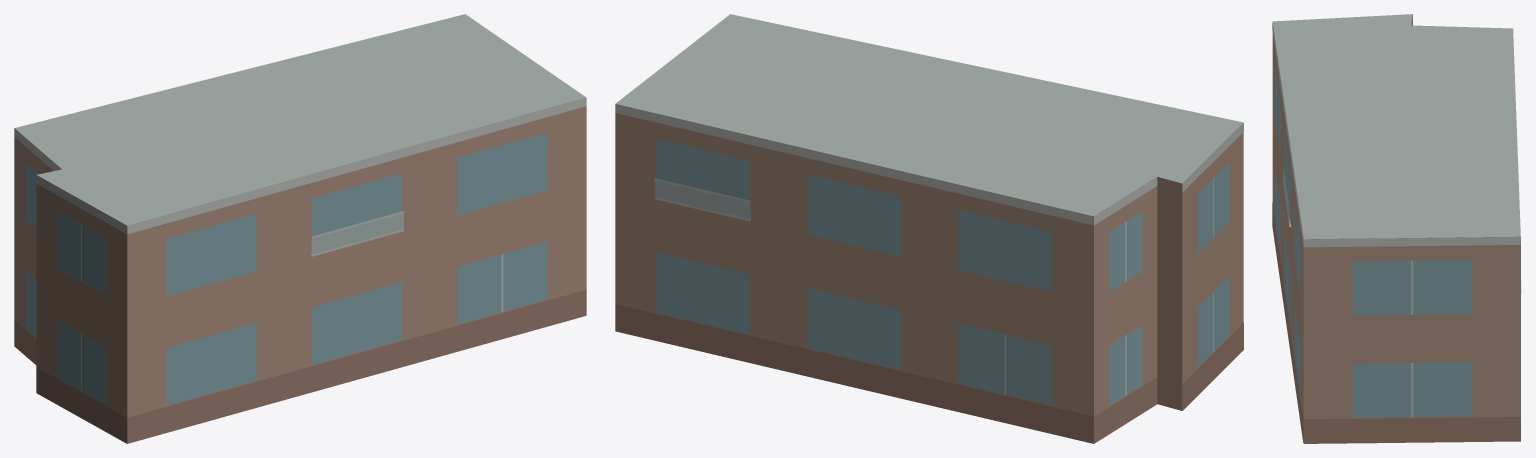
The model's file is survey-upis-33000966.glb.
The picture shows the model from 3 angles, left to right: view 1: azimuth 30°, elevation 25°; view 2: azimuth 150°, elevation 25°; view 3: azimuth 270°, elevation 25°; orthographic projection. The views are drawn at different scales.
Parts seen in each view (by area): view 1: survey-upis-33000966.tmp; view 2: survey-upis-33000966.tmp; view 3: survey-upis-33000966.tmp.
Boxes of the visible parts, x1,y1,x2,y2 form: survey-upis-33000966.tmp: (14, 14, 586, 443); survey-upis-33000966.tmp: (615, 14, 1243, 443); survey-upis-33000966.tmp: (1272, 14, 1521, 443).
Size of the model in its own units: 14.4 by 6.1 by 6.74.
